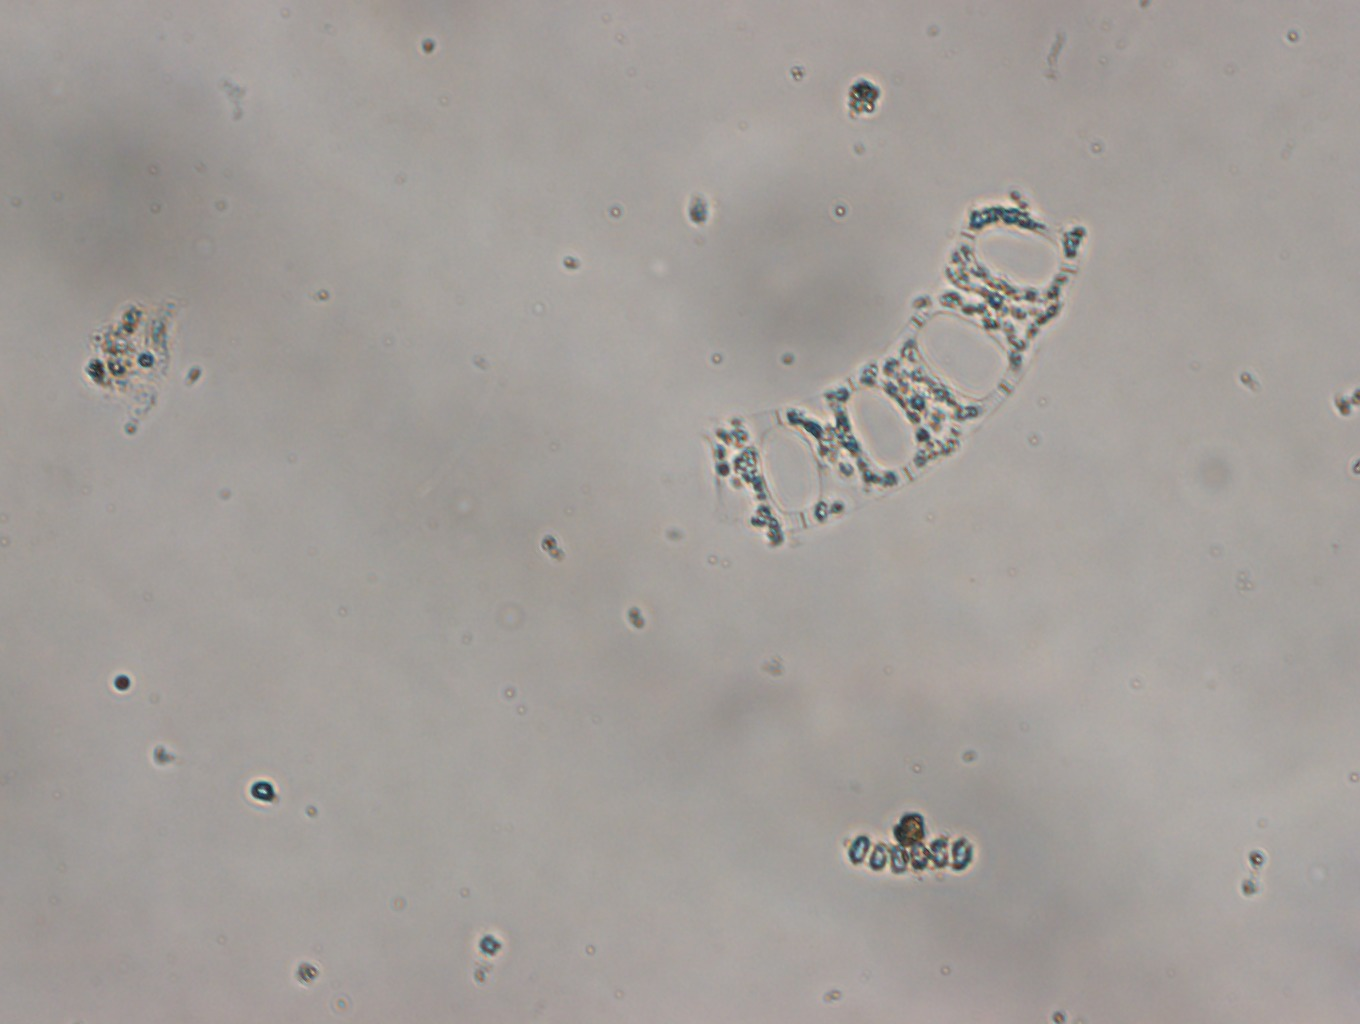eucampia: (710, 189, 1087, 546)
